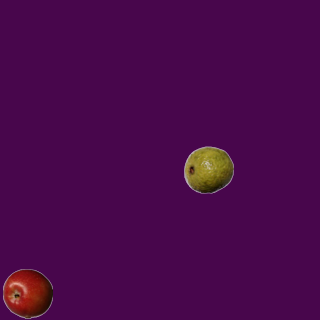Apple Braeburn: (2, 268, 52, 318)
Guava: (183, 144, 233, 194)
